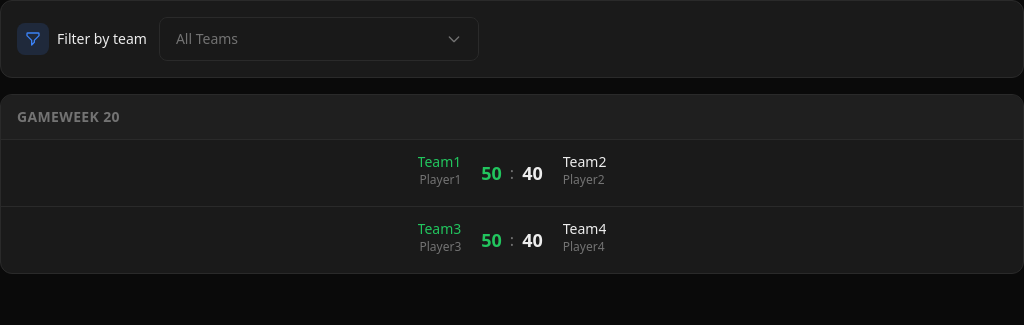
Results (expanded) › filters results by selected team
This screenshot has width=1024, height=325.
# Filter by Team1
Click the button with aria-label "Select team filter" at (207, 38), box x1=159 y1=17 x2=479 y2=61
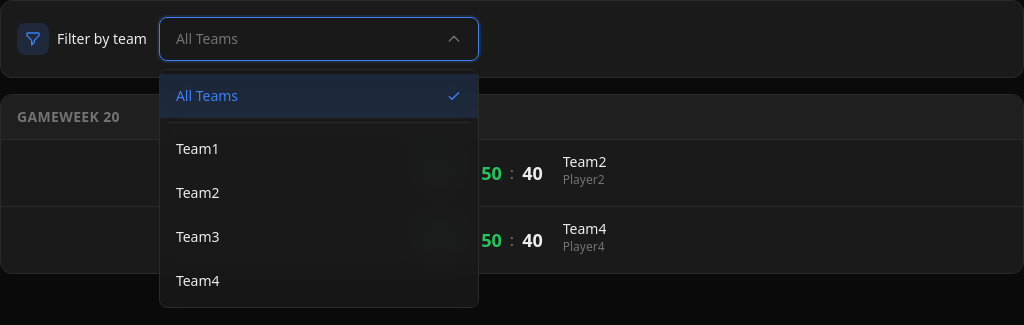
Click the option "Team1" at (198, 148), box x1=160 y1=127 x2=478 y2=171
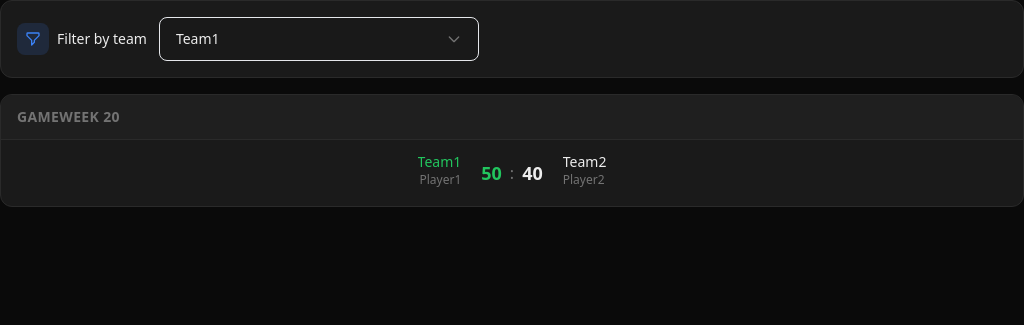
Expected: the text "Team1" is shown, x1=176 y1=29 x2=220 y2=49
Result: the text "Team3" is gone
